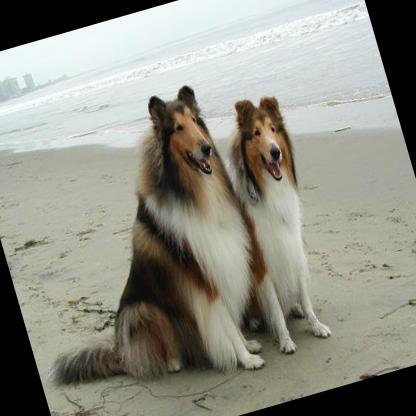collie: (0, 76, 284, 416), (213, 85, 346, 354)
